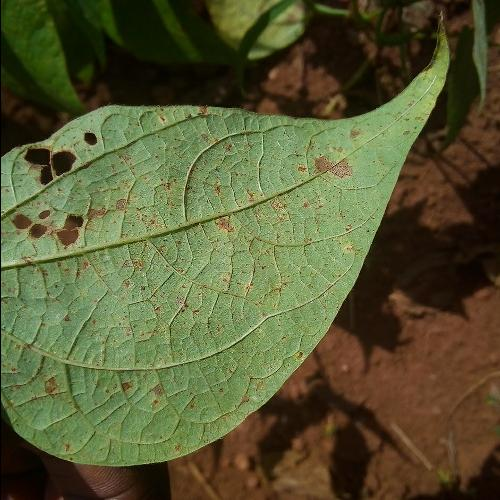hawar: (154, 137, 374, 273), (34, 319, 182, 478)
mozaik: (17, 118, 105, 264)
